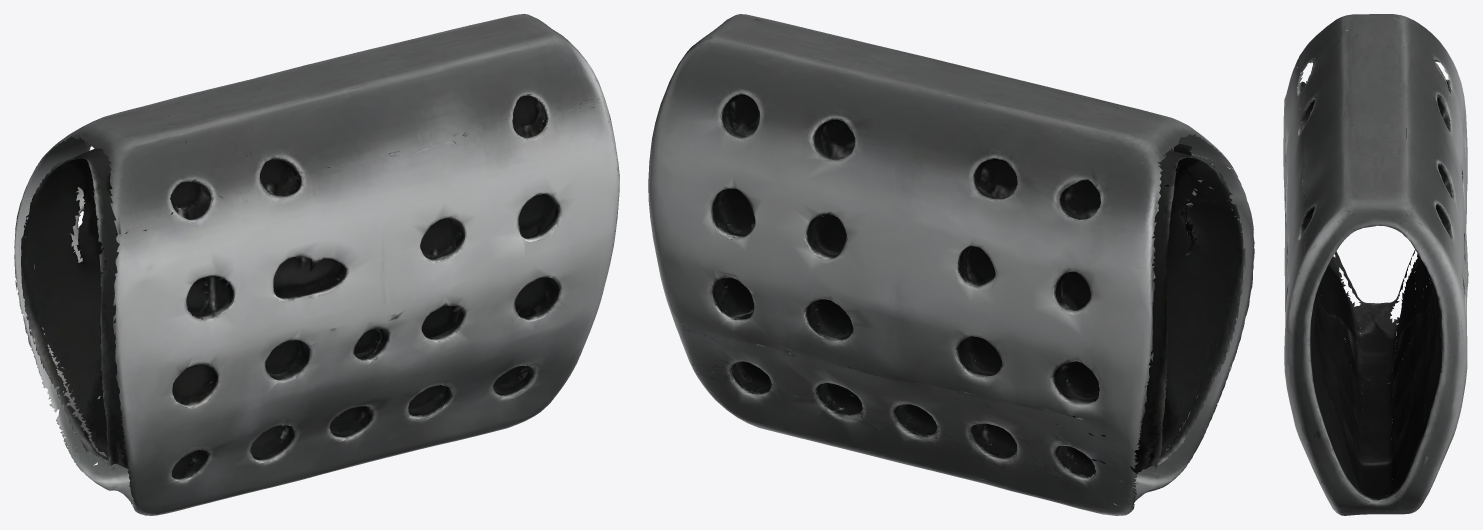
File: pedales-brake-display.glb
3 renders of one model, left to right at view 1: azimuth 30°, elevation 25°; view 2: azimuth 150°, elevation 25°; view 3: azimuth 270°, elevation 25°, orthographic. The views are drawn at different scales.
Visible parts, largest first — view 1: pedales-brake-display; view 2: pedales-brake-display; view 3: pedales-brake-display.
Part boxes in pixels (x1,y1,x2,y2): pedales-brake-display: (14,14,619,515); pedales-brake-display: (648,14,1254,515); pedales-brake-display: (1283,14,1468,515).
Size of the model in its own units: 1.05 by 0.7368 by 0.3693.
1 material, 1 textured.
